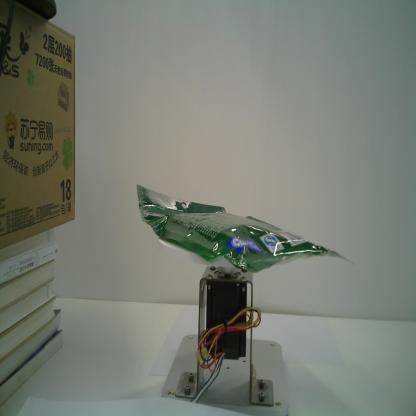Dried Food: (136, 183, 354, 274)
